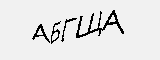А: (102, 8, 127, 36), (32, 22, 50, 44)
Б: (51, 20, 62, 44)
Г: (61, 16, 77, 44)
Щ: (76, 8, 103, 40)
